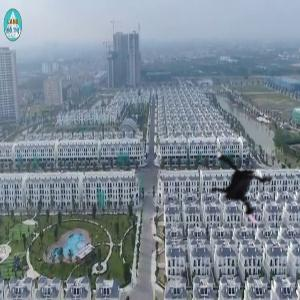drone: (194, 135, 292, 233)
